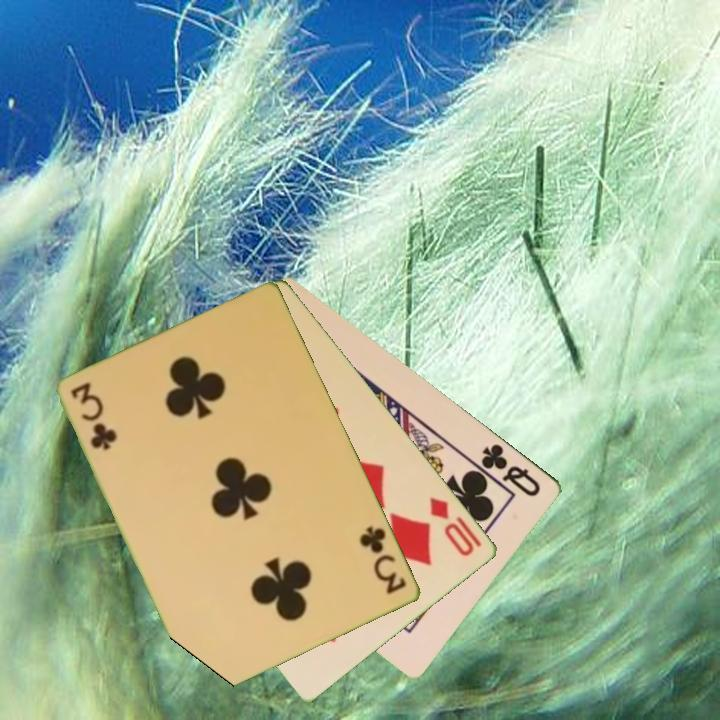10d: (426, 493, 478, 560)
3c: (356, 523, 410, 597), (68, 379, 119, 454)
Qc: (478, 440, 544, 500)
